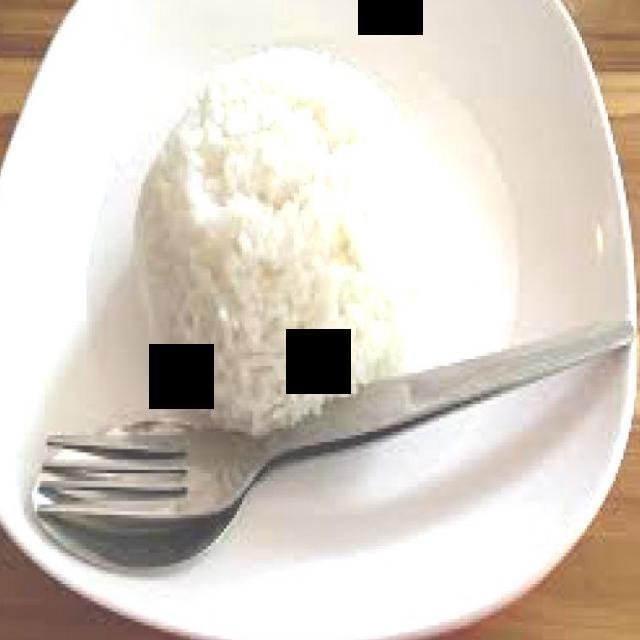rice: (136, 49, 441, 441)
